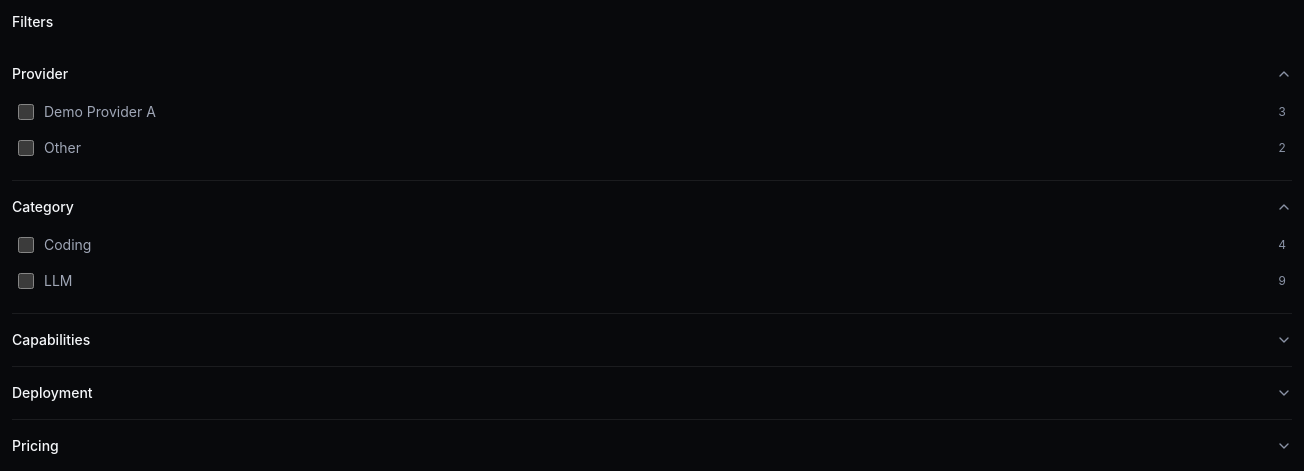
it: FilterGroups › collapses and expands groups (aria-expanded)
Click the button "Category" at (43, 206), box [12,197,1292,217]
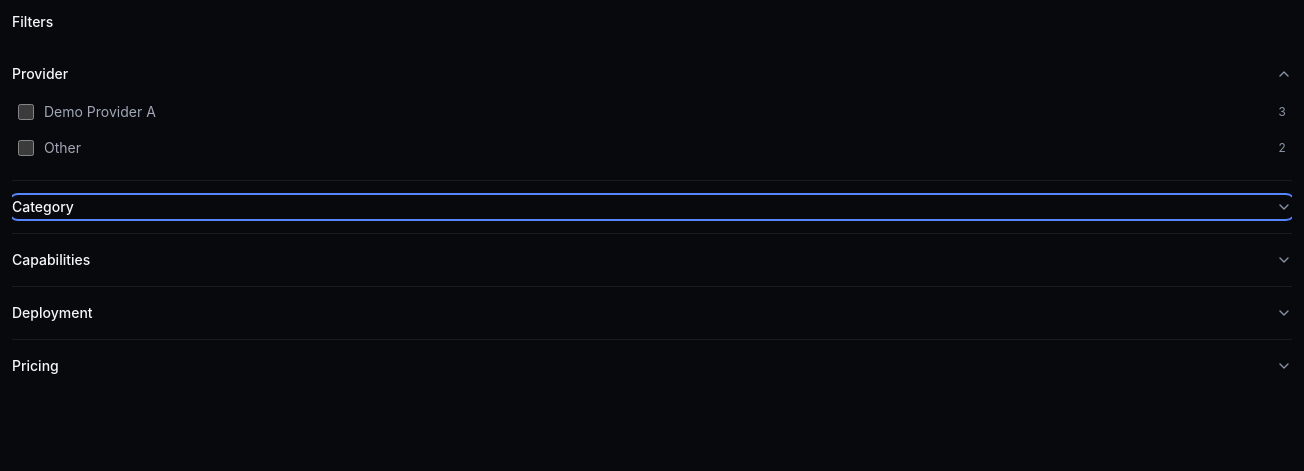
Expected: the button "Category" is collapsed, [12,197,1292,217]
Expected: the text "Coding" is gone
